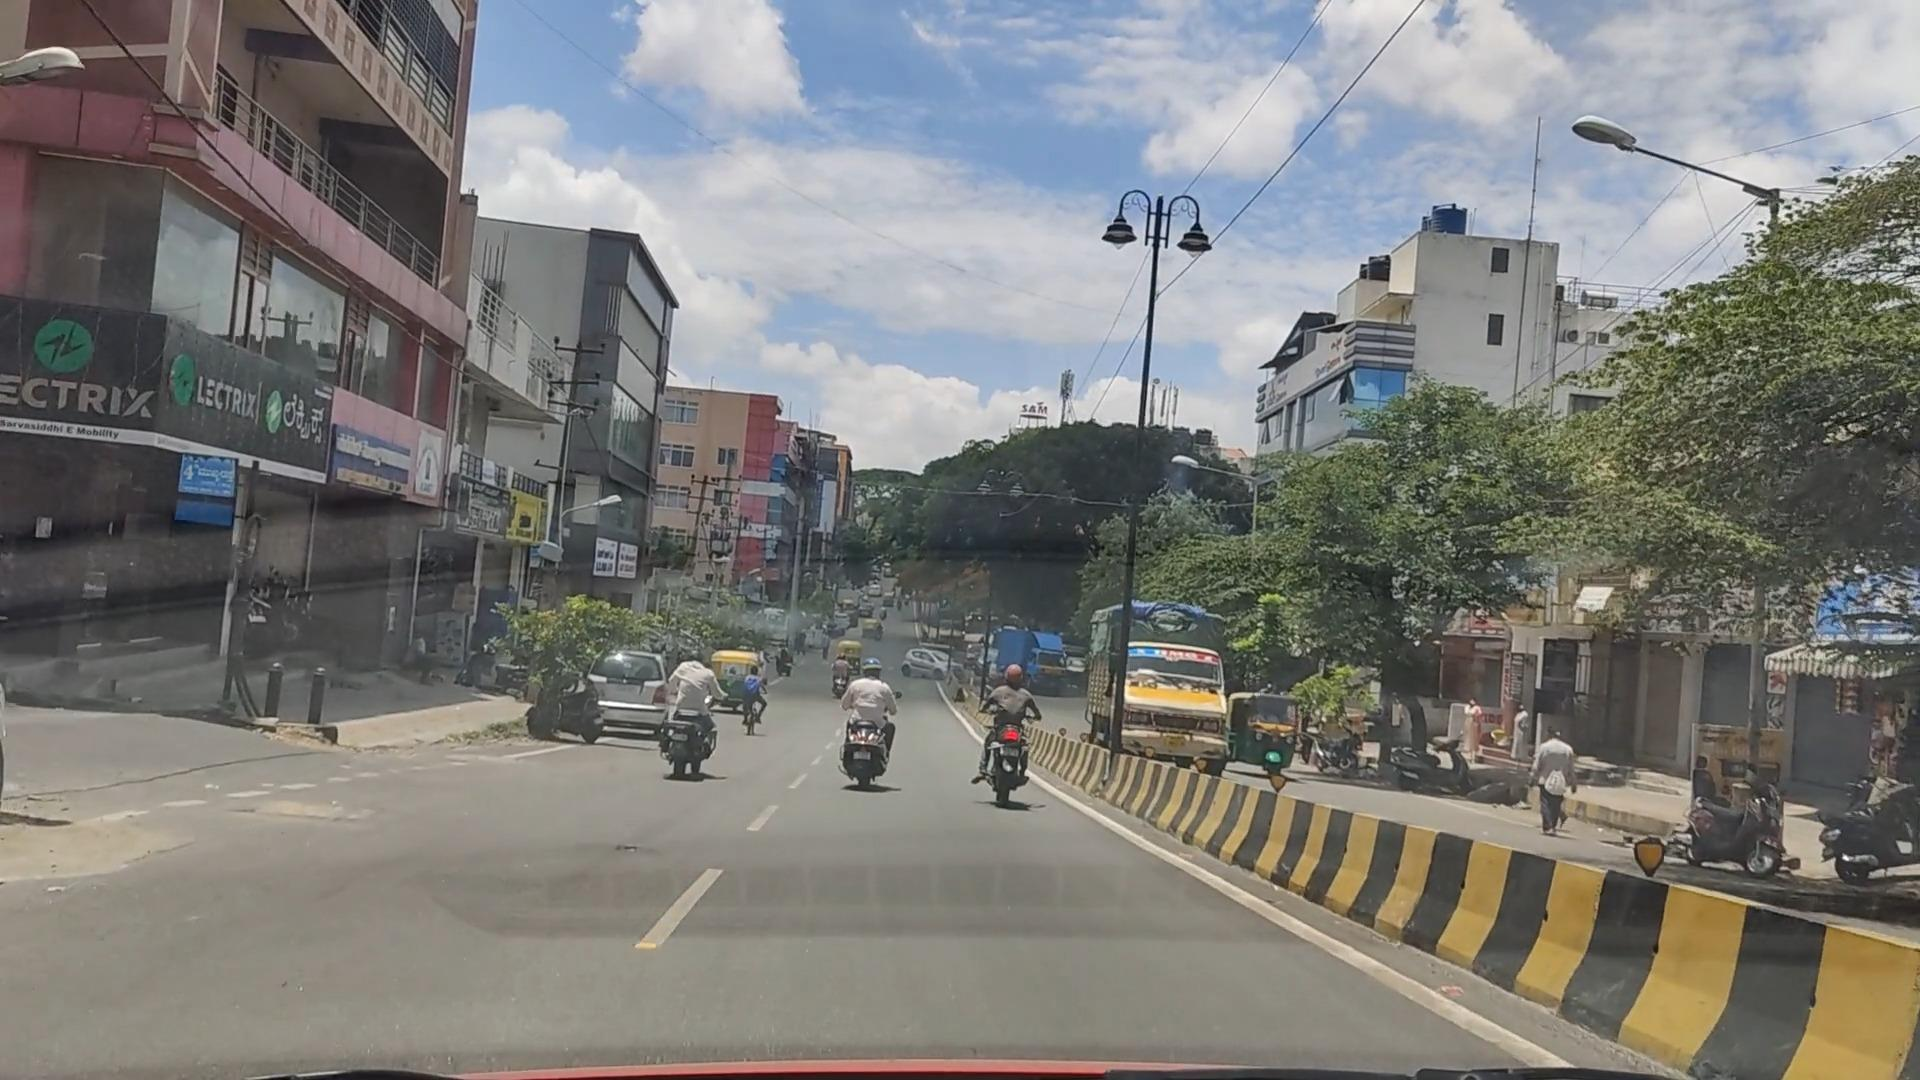LMV: (818, 640, 915, 800), (951, 678, 1049, 810), (670, 618, 737, 804)
RoadDamages: (21, 750, 421, 956)
